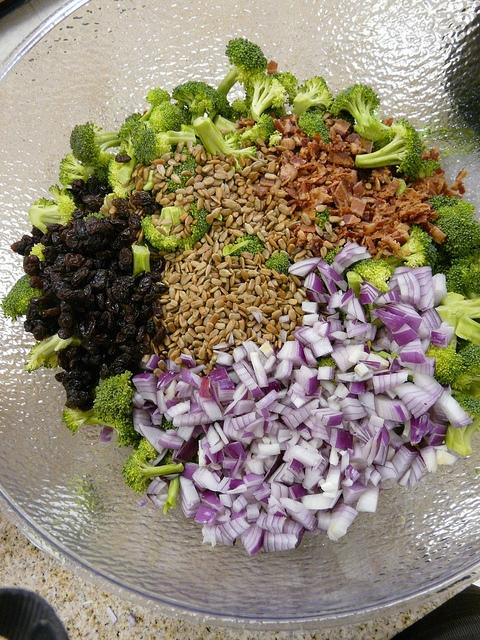broccoli: (83, 370, 144, 450), (354, 118, 422, 176), (140, 199, 210, 252), (121, 436, 184, 494), (194, 116, 258, 172), (428, 195, 480, 260), (130, 120, 197, 164), (329, 84, 381, 138), (172, 81, 219, 137), (70, 121, 122, 166), (24, 332, 81, 373), (444, 394, 480, 456), (384, 226, 437, 268), (1, 274, 46, 322), (116, 112, 144, 185), (248, 72, 288, 123), (432, 258, 480, 300), (424, 342, 465, 386), (290, 75, 336, 114), (30, 196, 76, 234), (164, 146, 199, 194), (340, 271, 371, 323), (155, 452, 180, 516), (350, 258, 395, 292), (142, 100, 186, 134), (225, 37, 268, 70), (107, 157, 136, 200), (240, 113, 276, 145), (273, 72, 298, 118), (222, 232, 266, 258), (298, 110, 331, 144), (137, 88, 171, 121), (438, 292, 480, 318), (61, 407, 95, 436), (131, 244, 151, 278), (316, 356, 338, 386), (264, 252, 290, 276), (452, 372, 480, 392), (434, 306, 459, 328), (61, 167, 94, 183), (322, 247, 345, 266), (421, 158, 442, 176), (315, 208, 332, 230), (28, 242, 46, 262), (159, 418, 178, 432), (231, 98, 248, 112), (94, 167, 108, 183), (83, 212, 105, 222), (468, 384, 480, 398)
onion: (438, 390, 474, 429), (281, 398, 320, 431), (327, 502, 358, 542), (231, 361, 262, 398), (384, 302, 422, 332), (392, 444, 420, 484), (316, 260, 348, 292), (320, 459, 344, 498), (412, 371, 444, 399), (138, 422, 166, 454), (256, 454, 280, 491), (300, 490, 344, 510), (372, 371, 408, 395), (132, 374, 158, 406), (396, 270, 420, 304), (375, 308, 409, 332), (276, 341, 308, 366), (388, 266, 416, 294), (240, 524, 264, 556), (223, 387, 249, 416), (198, 490, 226, 516), (294, 368, 320, 396), (290, 446, 326, 466), (391, 322, 419, 347), (339, 398, 368, 422), (356, 483, 380, 512), (250, 352, 269, 388), (341, 480, 368, 505), (401, 338, 426, 364), (410, 412, 430, 444), (310, 408, 344, 426), (284, 518, 304, 548), (132, 407, 152, 437), (176, 435, 198, 462), (367, 428, 382, 467), (336, 367, 374, 382), (347, 295, 367, 323), (194, 504, 219, 526), (302, 466, 324, 491), (342, 250, 372, 268), (406, 392, 434, 411), (311, 337, 336, 358), (434, 390, 450, 422), (288, 257, 322, 272), (418, 308, 442, 329), (209, 367, 230, 391), (230, 412, 256, 431), (432, 273, 446, 308), (330, 344, 348, 371), (181, 367, 203, 389), (432, 326, 454, 348), (274, 358, 294, 382), (366, 352, 390, 372), (330, 428, 352, 449), (256, 389, 278, 410), (202, 400, 223, 421), (266, 512, 286, 534), (198, 469, 218, 491), (304, 272, 323, 295), (417, 286, 435, 310), (166, 399, 191, 416), (244, 417, 264, 438), (178, 496, 197, 518), (217, 380, 236, 402), (311, 419, 330, 441), (266, 462, 285, 484), (420, 446, 436, 472), (286, 382, 312, 398), (355, 325, 378, 343), (298, 328, 325, 343), (436, 450, 461, 466), (320, 272, 338, 294), (346, 323, 372, 338), (158, 434, 184, 449), (178, 476, 193, 502), (280, 498, 304, 514), (214, 476, 235, 494), (226, 442, 247, 460), (256, 506, 270, 532), (287, 458, 305, 478), (202, 442, 217, 466), (416, 326, 440, 341), (276, 428, 298, 444), (242, 472, 264, 488), (233, 399, 255, 415), (214, 422, 229, 445), (374, 464, 397, 479), (264, 376, 283, 394), (394, 402, 411, 422), (288, 483, 308, 500), (358, 390, 375, 410), (288, 264, 316, 276), (206, 424, 220, 448), (286, 506, 310, 520), (296, 438, 318, 453), (176, 426, 196, 442), (164, 376, 180, 396), (150, 478, 170, 494), (316, 512, 332, 532), (144, 354, 162, 371), (296, 422, 312, 441), (182, 462, 198, 481), (229, 454, 241, 479), (423, 433, 446, 446), (339, 287, 353, 308), (333, 382, 350, 399), (156, 390, 168, 414), (247, 459, 265, 475), (304, 346, 317, 368), (246, 504, 260, 524), (348, 458, 368, 472), (196, 466, 208, 489), (339, 348, 352, 369), (301, 312, 320, 326), (199, 376, 211, 398), (411, 459, 423, 481), (258, 444, 280, 456), (398, 468, 411, 488), (385, 461, 398, 481), (258, 342, 274, 358), (198, 396, 214, 412), (243, 484, 260, 499), (320, 380, 337, 395), (164, 392, 179, 409), (346, 380, 364, 394), (232, 346, 246, 364), (228, 520, 246, 534), (350, 440, 361, 462), (222, 458, 244, 469), (354, 362, 369, 378), (357, 360, 381, 370), (318, 366, 334, 381), (328, 294, 344, 309), (328, 446, 340, 466), (290, 514, 314, 524), (327, 394, 342, 410), (188, 363, 208, 375), (176, 384, 193, 398), (328, 317, 342, 334), (360, 284, 378, 297), (271, 482, 282, 503), (370, 468, 382, 487), (235, 516, 251, 530), (100, 426, 114, 442), (226, 484, 248, 494), (264, 354, 276, 372), (302, 302, 320, 314), (381, 424, 390, 448), (377, 336, 391, 351), (359, 290, 374, 304), (417, 454, 428, 473), (180, 356, 196, 369), (146, 478, 159, 494), (276, 482, 289, 498), (425, 422, 438, 438), (305, 290, 321, 303), (166, 359, 180, 373), (219, 494, 233, 508), (280, 394, 294, 408), (233, 384, 246, 399), (201, 421, 216, 434), (231, 509, 247, 521), (286, 534, 298, 550), (218, 462, 230, 478), (341, 452, 349, 475), (292, 395, 306, 408), (370, 415, 384, 428), (333, 260, 346, 274), (192, 424, 205, 438), (175, 380, 190, 392), (420, 357, 430, 375), (433, 423, 448, 435), (412, 266, 432, 275), (284, 462, 295, 478), (364, 464, 375, 480), (384, 388, 397, 401), (418, 274, 432, 286), (228, 370, 240, 384), (202, 534, 216, 546), (132, 392, 144, 406), (304, 520, 318, 532), (251, 310, 263, 324), (330, 331, 348, 340), (274, 534, 283, 552), (346, 423, 358, 436), (276, 388, 289, 400), (193, 481, 207, 492), (232, 499, 243, 513), (263, 420, 273, 435), (403, 419, 411, 437), (190, 402, 202, 414), (264, 455, 275, 468), (383, 420, 397, 430), (201, 452, 212, 464), (340, 306, 353, 316), (286, 445, 294, 461), (432, 444, 448, 452), (244, 341, 255, 352), (384, 291, 394, 303), (268, 532, 274, 552), (173, 415, 183, 427), (267, 434, 279, 444), (358, 352, 370, 362), (430, 358, 436, 378), (256, 452, 271, 460), (150, 410, 162, 420), (156, 492, 168, 502), (228, 422, 234, 441), (212, 342, 228, 349), (134, 498, 148, 506), (346, 344, 354, 358), (307, 438, 318, 448), (199, 412, 208, 424), (261, 407, 270, 419), (280, 406, 292, 415), (192, 416, 202, 426), (266, 368, 276, 378), (279, 314, 289, 324), (212, 472, 221, 483), (164, 412, 173, 423), (244, 464, 253, 475), (228, 332, 235, 346), (200, 437, 208, 449), (392, 290, 400, 302), (346, 392, 358, 400), (288, 370, 296, 382), (187, 414, 195, 426), (314, 438, 323, 448), (240, 442, 249, 452), (317, 478, 326, 487), (281, 379, 289, 389), (214, 364, 230, 369), (342, 338, 352, 346), (184, 401, 190, 414), (262, 436, 271, 444), (323, 391, 333, 398), (232, 427, 237, 441), (192, 388, 199, 398), (256, 408, 264, 416), (260, 388, 267, 396), (279, 442, 285, 450), (394, 421, 401, 427), (344, 319, 348, 328)
